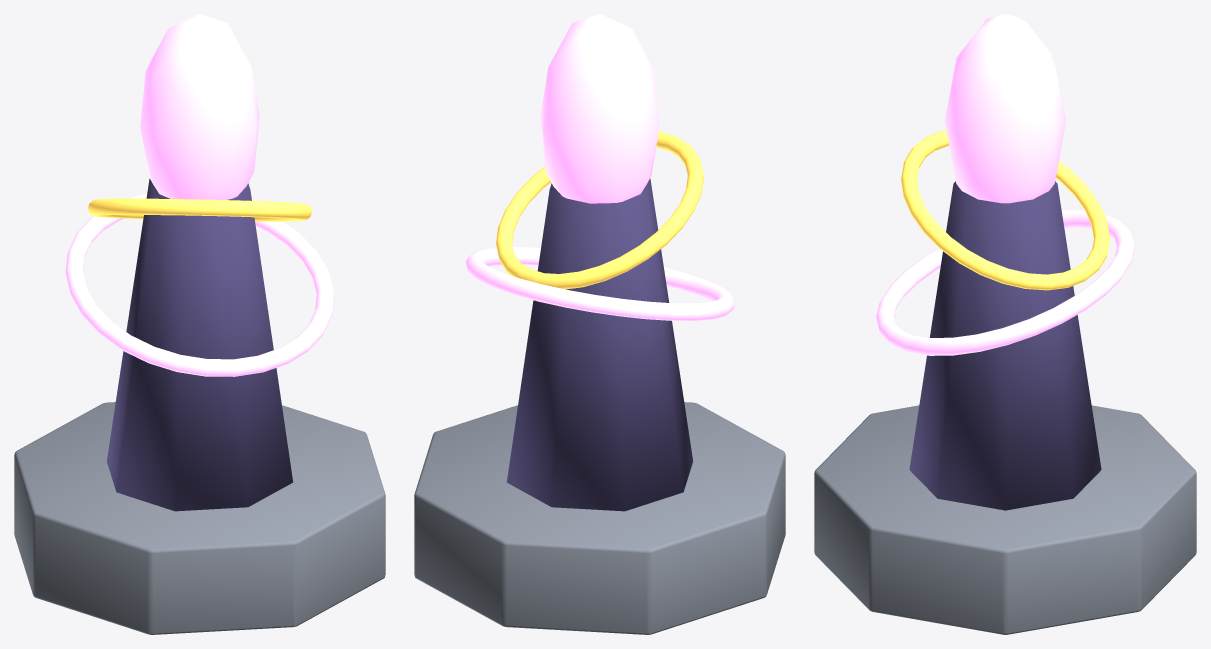
The model's file is bldg_arcane_obelisk.glb.
3 renders of one model, left to right at view 1: azimuth 30°, elevation 25°; view 2: azimuth 150°, elevation 25°; view 3: azimuth 270°, elevation 25°, orthographic.
Visible parts, largest first — view 1: StaticBody, Anim_Floater, Anim_Rotor; view 2: StaticBody, Anim_Floater, Anim_Rotor; view 3: StaticBody, Anim_Floater, Anim_Rotor.
Boxes of the visible parts, x1,y1,x2,y2 form: StaticBody: (14,178,385,634); Anim_Floater: (140,14,259,199); Anim_Rotor: (65,194,334,376); StaticBody: (414,178,785,634); Anim_Floater: (540,14,659,203); Anim_Rotor: (465,131,734,320); StaticBody: (814,181,1196,634); Anim_Floater: (944,14,1066,203); Anim_Rotor: (876,130,1134,355).
Size of the model in its own units: 2.35 by 3.68 by 2.35.
